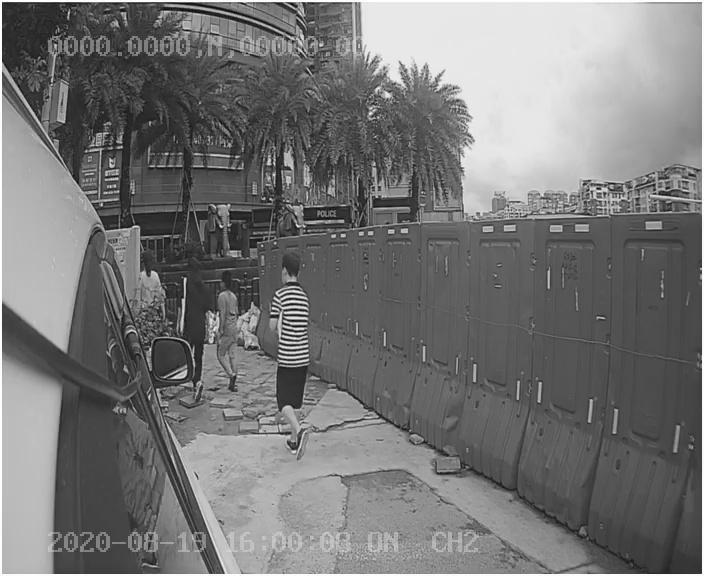person: (260, 253, 335, 461)
